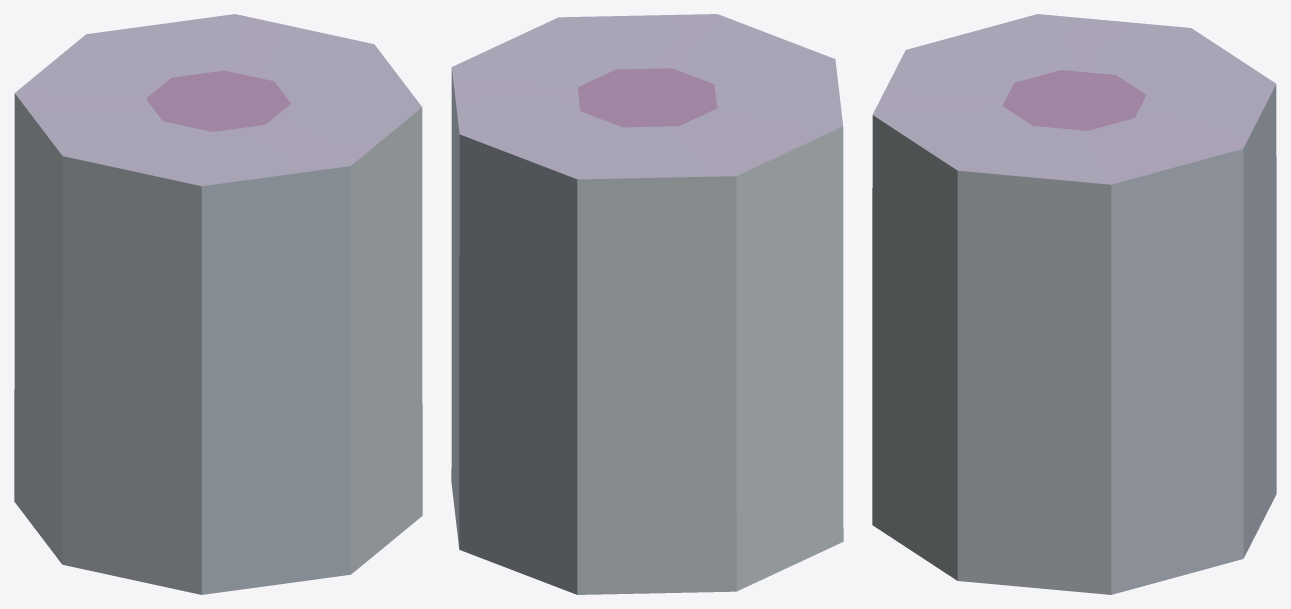
The model's file is paper.glb.
3 views of the same model, side by side, from view 1: azimuth 30°, elevation 25°; view 2: azimuth 150°, elevation 25°; view 3: azimuth 270°, elevation 25° (orthographic).
Parts seen in each view (by area): view 1: paper; view 2: paper; view 3: paper.
Boxes of the visible parts, box(x1,y1,x2,y2) form: paper: box(14, 14, 422, 594); paper: box(451, 14, 843, 594); paper: box(872, 14, 1276, 594).
Bounding box in the file's own units: 0.1592 × 0.1781 × 0.1592.
